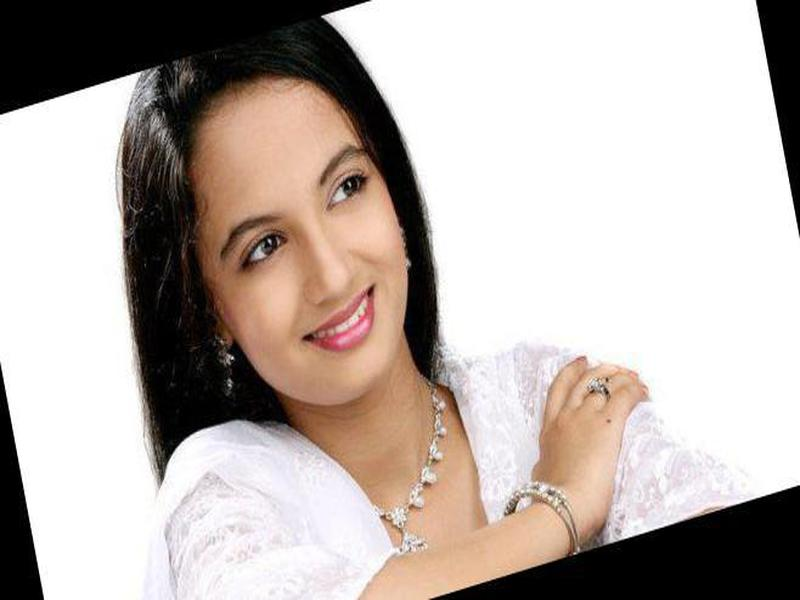without_mask: (189, 121, 411, 404)
